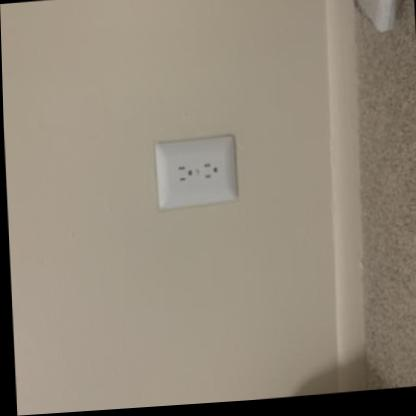OUTLET: (153, 137, 235, 207)
